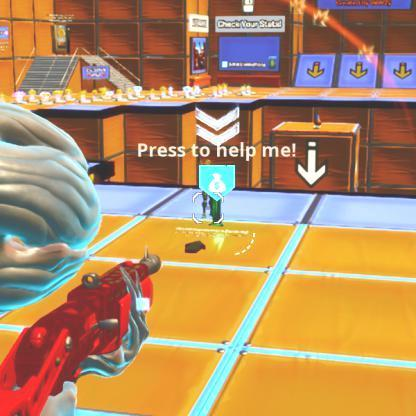person: (200, 192, 212, 217)
